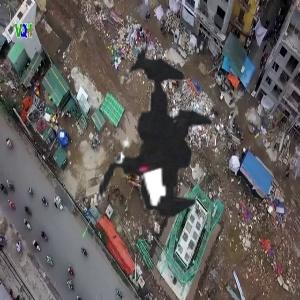drone: (16, 6, 277, 267)
